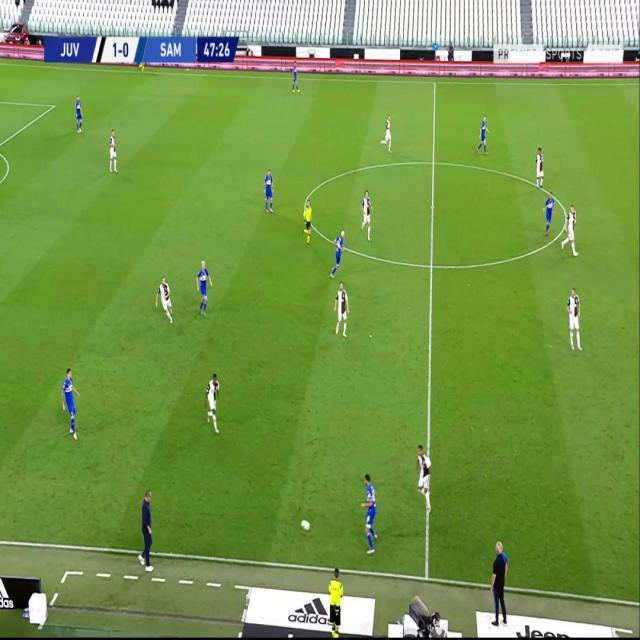ball: (301, 516, 311, 531)
player: (360, 470, 380, 554), (62, 365, 81, 440), (415, 442, 434, 513), (203, 370, 222, 437), (195, 258, 215, 318), (565, 285, 582, 352), (560, 201, 579, 256), (333, 280, 350, 339), (155, 274, 174, 326), (329, 228, 346, 279), (360, 188, 374, 242), (263, 166, 276, 214), (476, 113, 490, 155), (543, 192, 556, 237), (379, 113, 393, 153), (108, 126, 119, 173), (534, 145, 545, 190), (74, 93, 84, 133), (291, 59, 300, 92)
referee: (302, 198, 314, 246)
